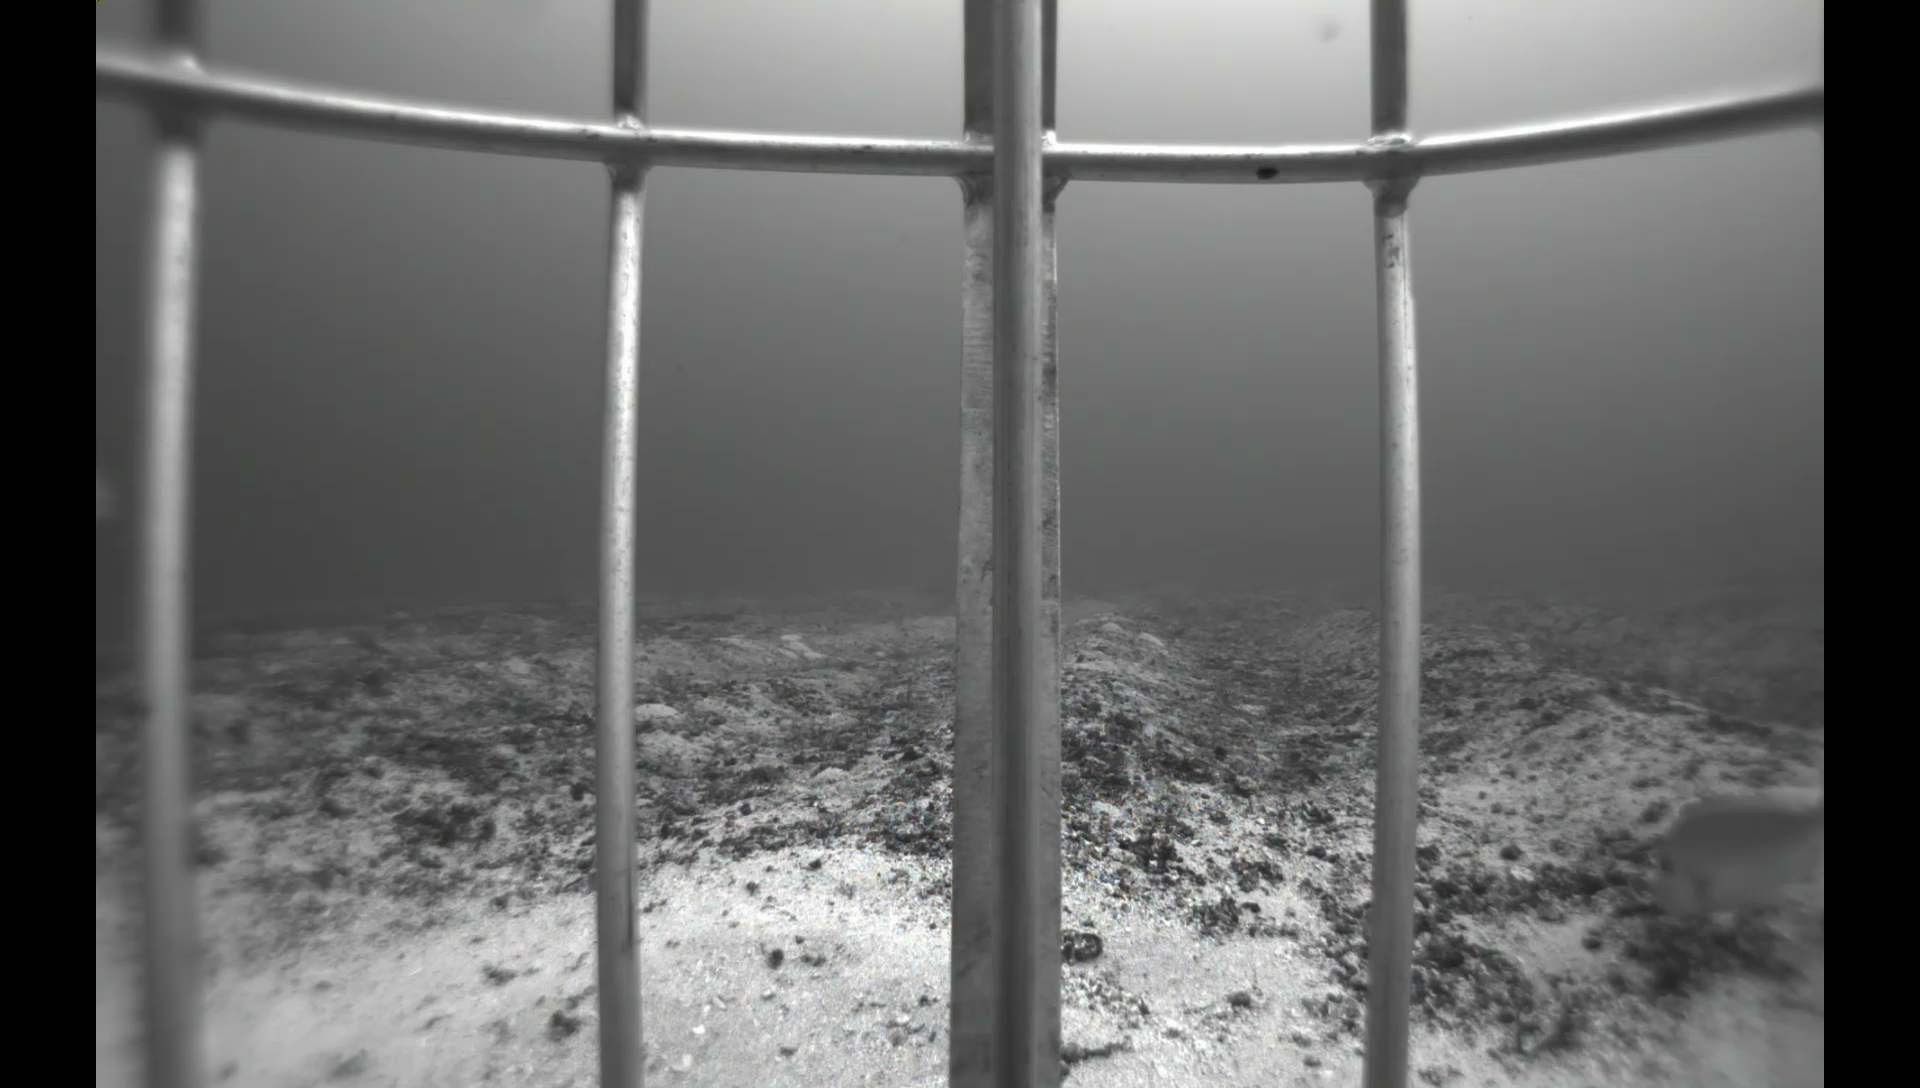CALAMUSPRORIDENS-170210605: (1633, 778, 1818, 942)
SERIOLARIVOLIANA-170113105: (92, 460, 131, 534)
